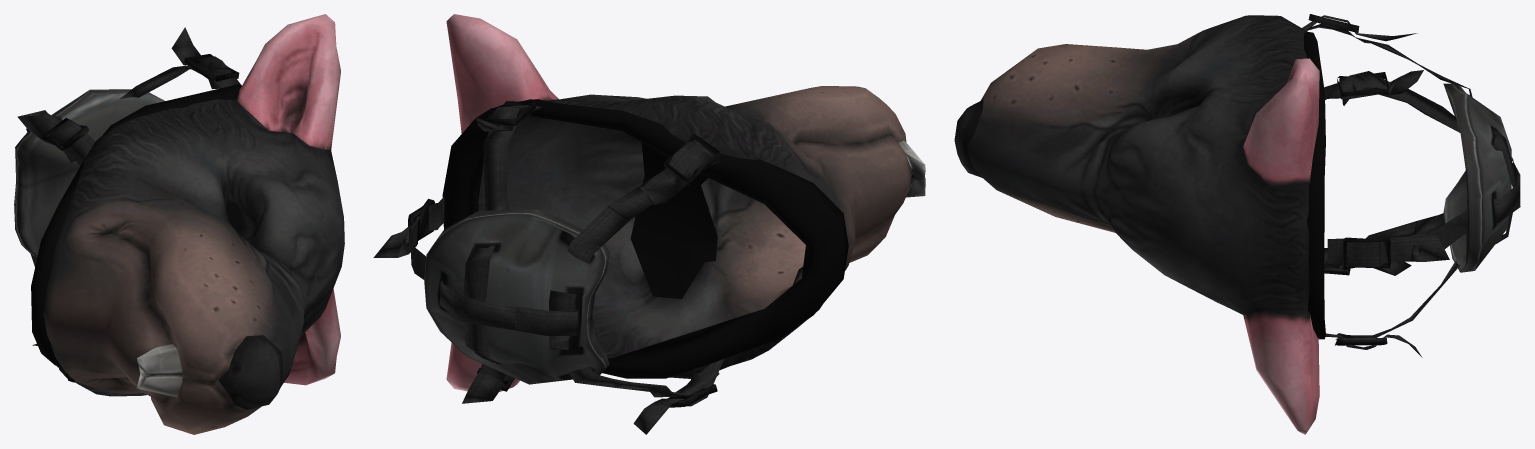
File: F_RatMask.fbx
3 views of the same model, side by side, from view 1: azimuth 30°, elevation 25°; view 2: azimuth 150°, elevation 25°; view 3: azimuth 270°, elevation 25° (orthographic). The views are drawn at different scales.
Visible parts, largest first — view 1: RatMask.001; view 2: RatMask.001; view 3: RatMask.001.
Boxes of the visible parts, x1,y1,x2,y2 form: RatMask.001: [14, 14, 344, 434]; RatMask.001: [373, 14, 925, 434]; RatMask.001: [954, 14, 1520, 434].
Bounding box in the file's own units: 0.1602 × 0.1632 × 0.2308.
